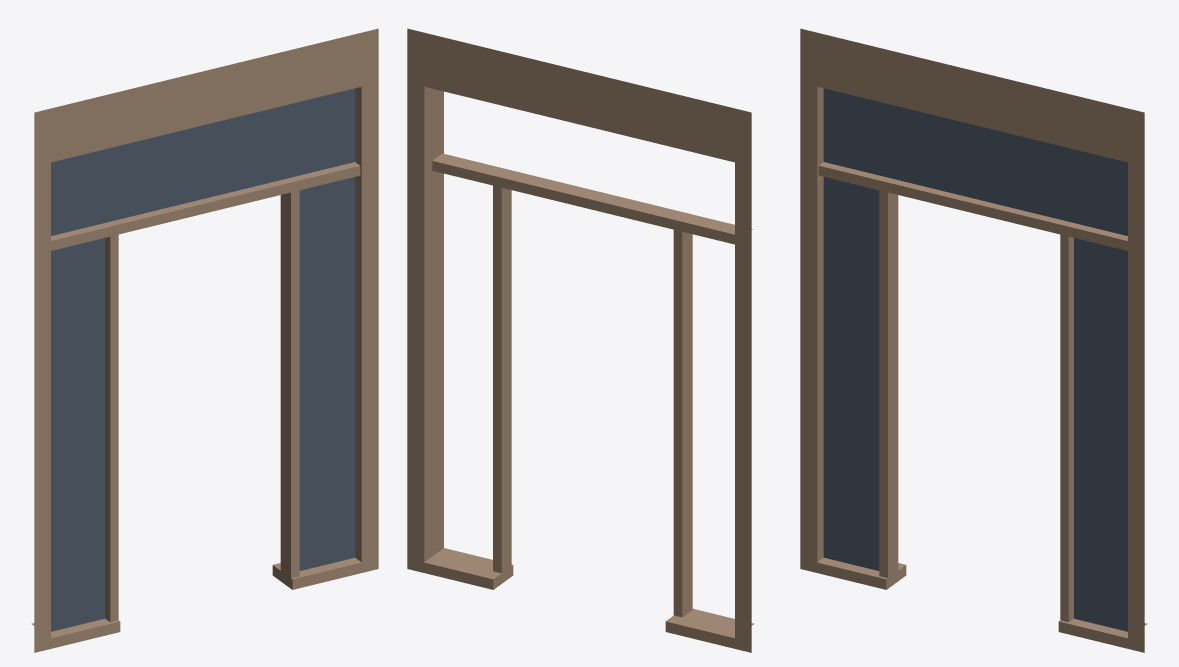
File: env_block_door_frame_metal_single.glb
3 views of the same model, side by side, from view 1: azimuth 30°, elevation 25°; view 2: azimuth 150°, elevation 25°; view 3: azimuth 330°, elevation 25° (orthographic).
Parts seen in each view (by area): view 1: part_1, part_0; view 2: part_0; view 3: part_1, part_0.
Part boxes in pixels (bbox=[...]): part_1: bbox=[51, 88, 355, 631]; part_0: bbox=[31, 28, 378, 652]; part_0: bbox=[407, 28, 754, 652]; part_1: bbox=[823, 88, 1127, 631]; part_0: bbox=[800, 28, 1147, 652].
Bounding box in the file's own units: 2 × 3 × 0.2.
